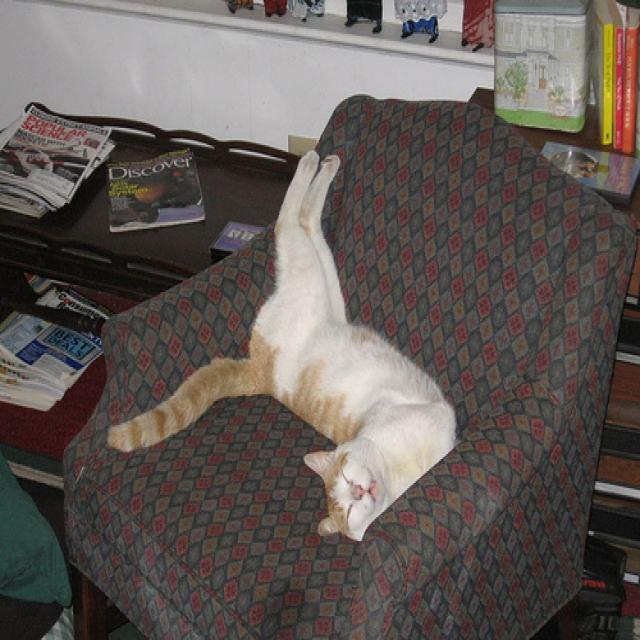cat: (105, 149, 458, 542)
chair: (57, 93, 640, 639)
